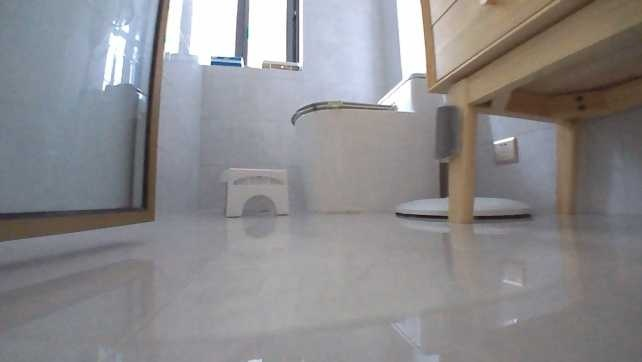door_anno: (0, 1, 174, 245)
plastic_stool: (218, 163, 291, 218)
toilet: (287, 71, 448, 217)
